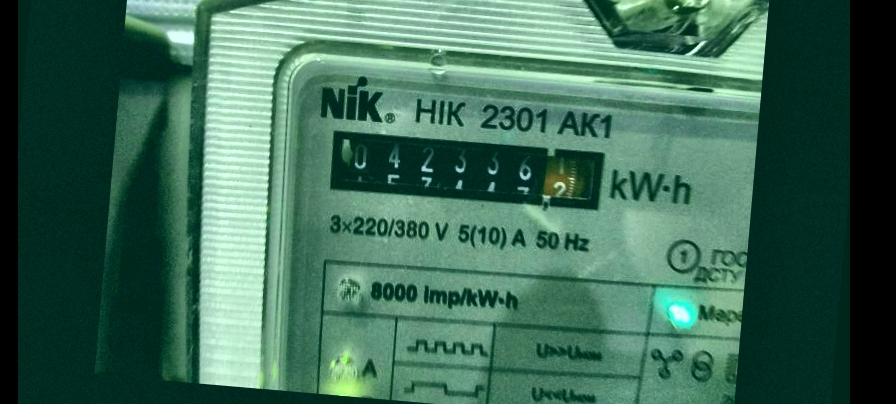0: (351, 141, 370, 170)
1: (554, 152, 568, 175)
2: (419, 143, 438, 173), (551, 178, 568, 197)
3: (483, 145, 502, 176), (451, 144, 469, 174)
4: (385, 139, 405, 169)
6: (517, 150, 536, 181)
screen: (317, 115, 619, 221)
